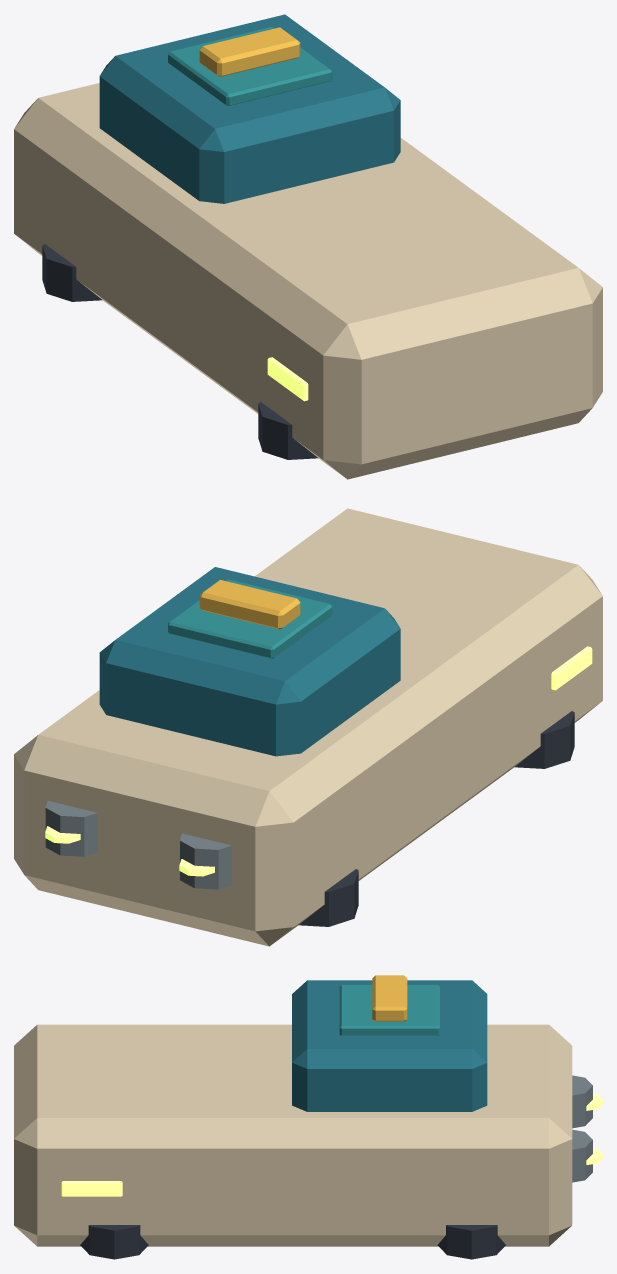
The model's file is vehicles_010_seed11.glb.
3 renders of one model, top to bottom at view 1: azimuth 30°, elevation 25°; view 2: azimuth 150°, elevation 25°; view 3: azimuth 270°, elevation 25°, orthographic. The views are drawn at different scales.
Parts seen in each view (by area): view 1: vehicles_010_seed11; view 2: vehicles_010_seed11; view 3: vehicles_010_seed11.
Boxes of the visible parts, left/top/right/bottom form: vehicles_010_seed11: left=14, top=14, right=602, bottom=479; vehicles_010_seed11: left=14, top=508, right=602, bottom=946; vehicles_010_seed11: left=14, top=975, right=602, bottom=1259.
Size of the model in its own units: 2.03 by 1.6 by 4.06.
